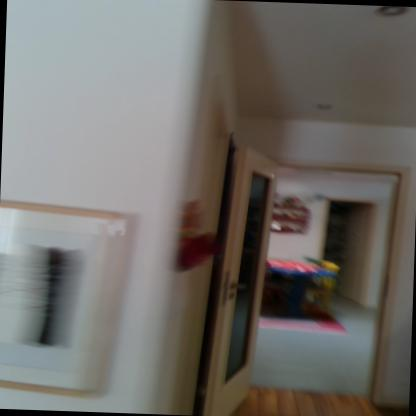open: (201, 131, 415, 408)
